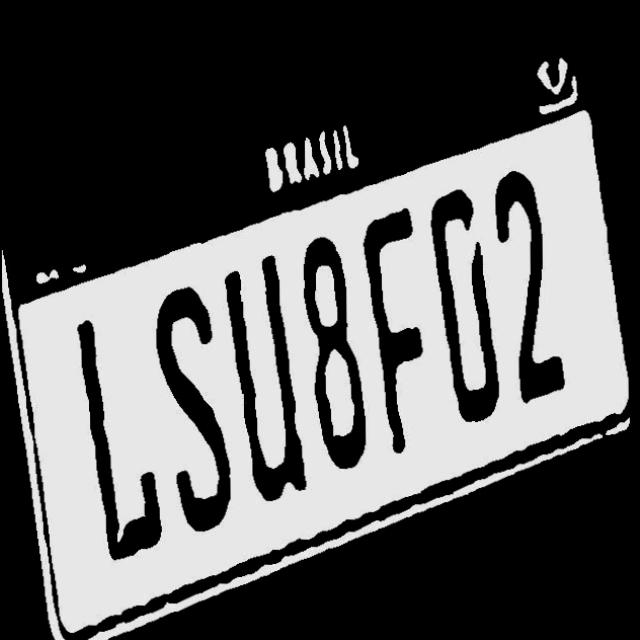0: (424, 186, 514, 421)
2: (496, 169, 578, 389)
8: (294, 235, 375, 469)
f: (359, 207, 439, 444)
l: (72, 318, 176, 564)
s: (157, 284, 242, 532)
u: (224, 254, 310, 502)
